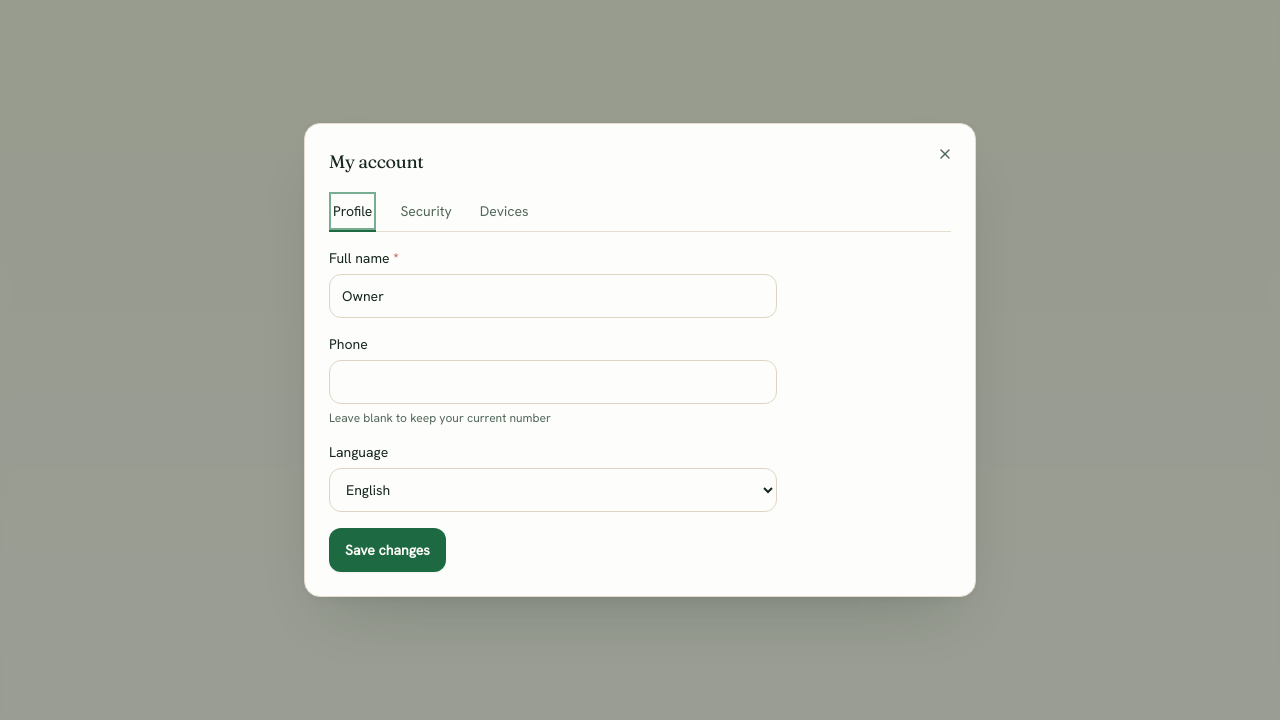
it: AccountDialog › signs out all other devices through the AuthContext (refresh token stays private)
Click the tab "Devices". click: [504, 212]
box: [476, 192, 533, 232]
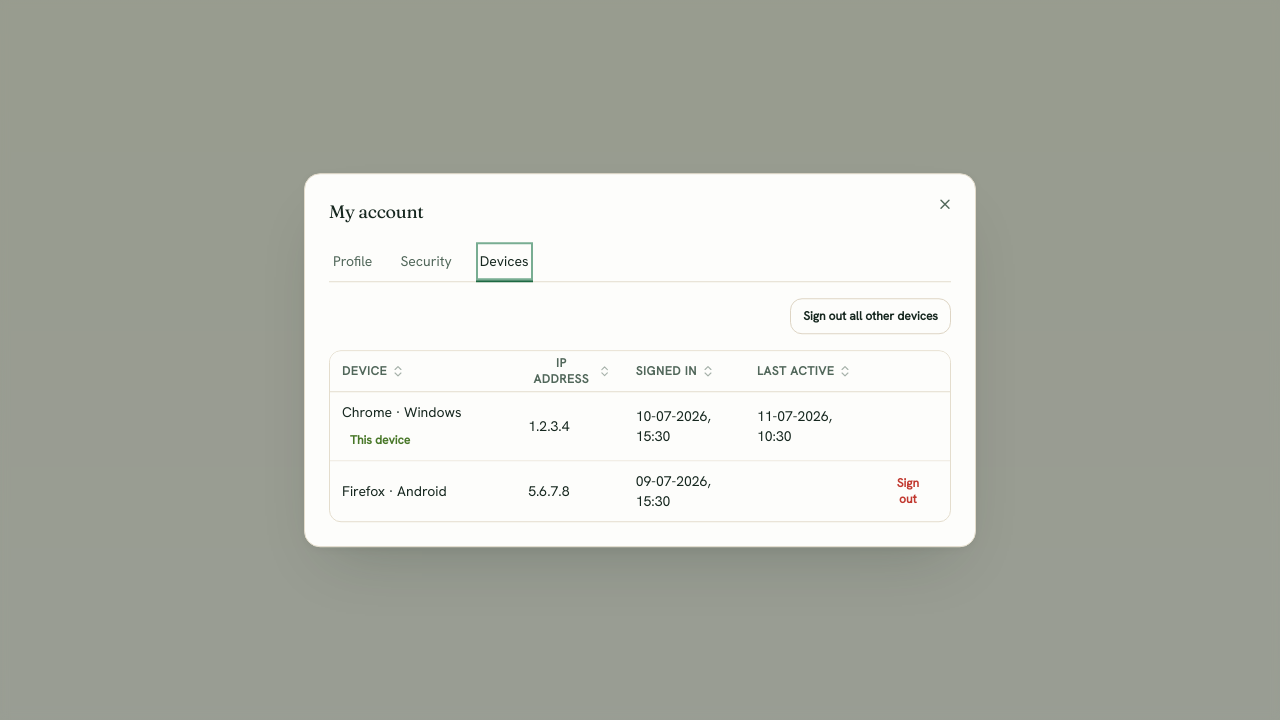
Expected: the table is shown, [330, 351, 950, 521]
Click the button "Sign out all other devices". click: [871, 316]
box: [790, 298, 951, 334]
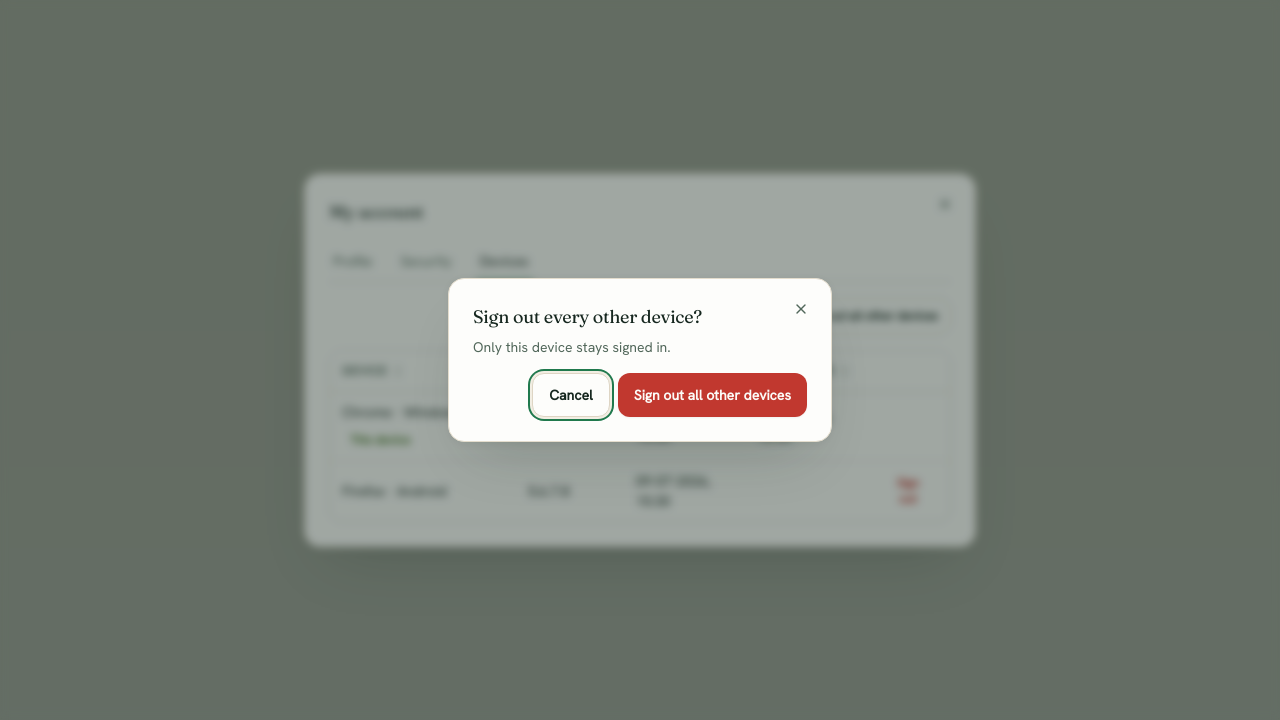
Click the button "Sign out all other devices". click: [712, 395]
box: [618, 373, 807, 417]
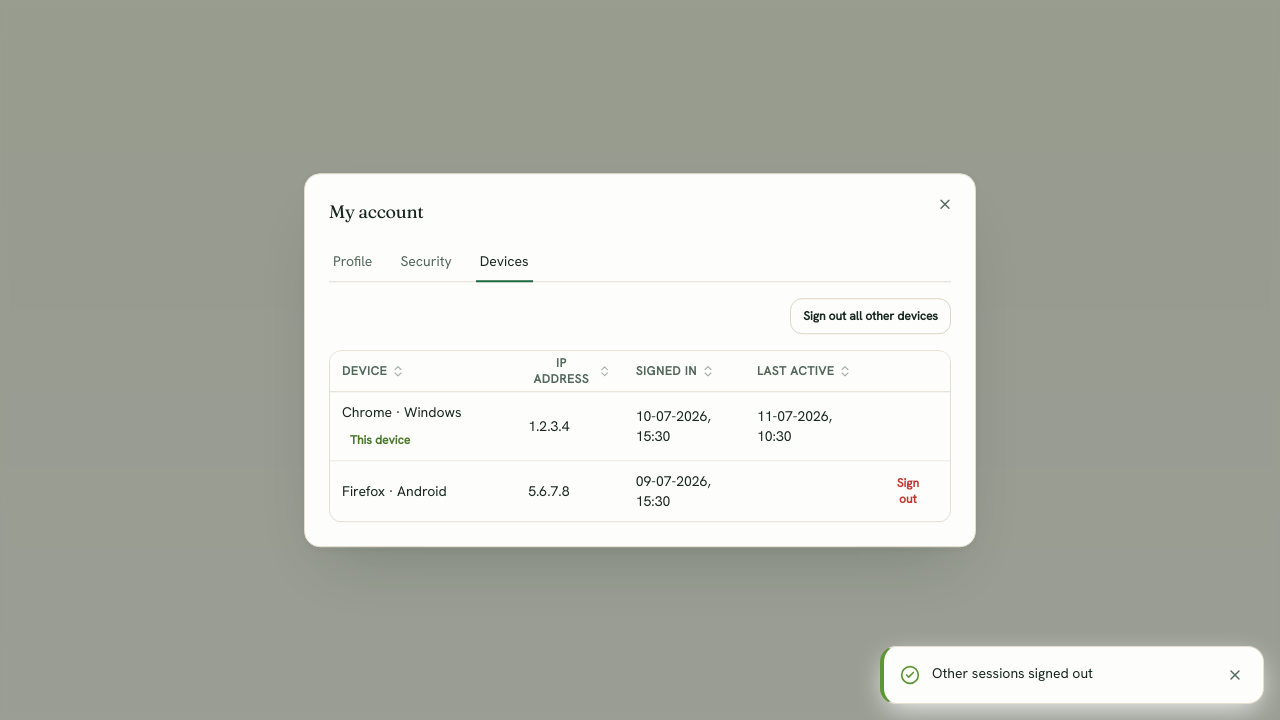
Expected: the text "Other sessions signed out" is shown, [932, 664, 1093, 682]
